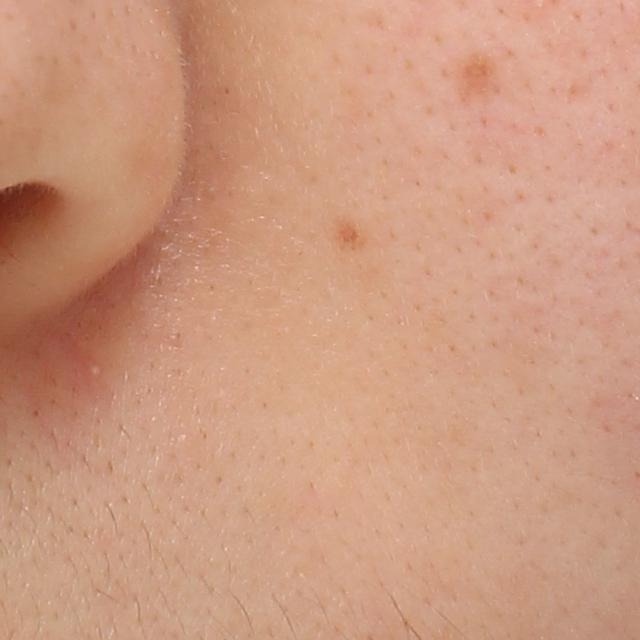nevus: (331, 218, 363, 253)
pustule: (83, 361, 105, 381)
